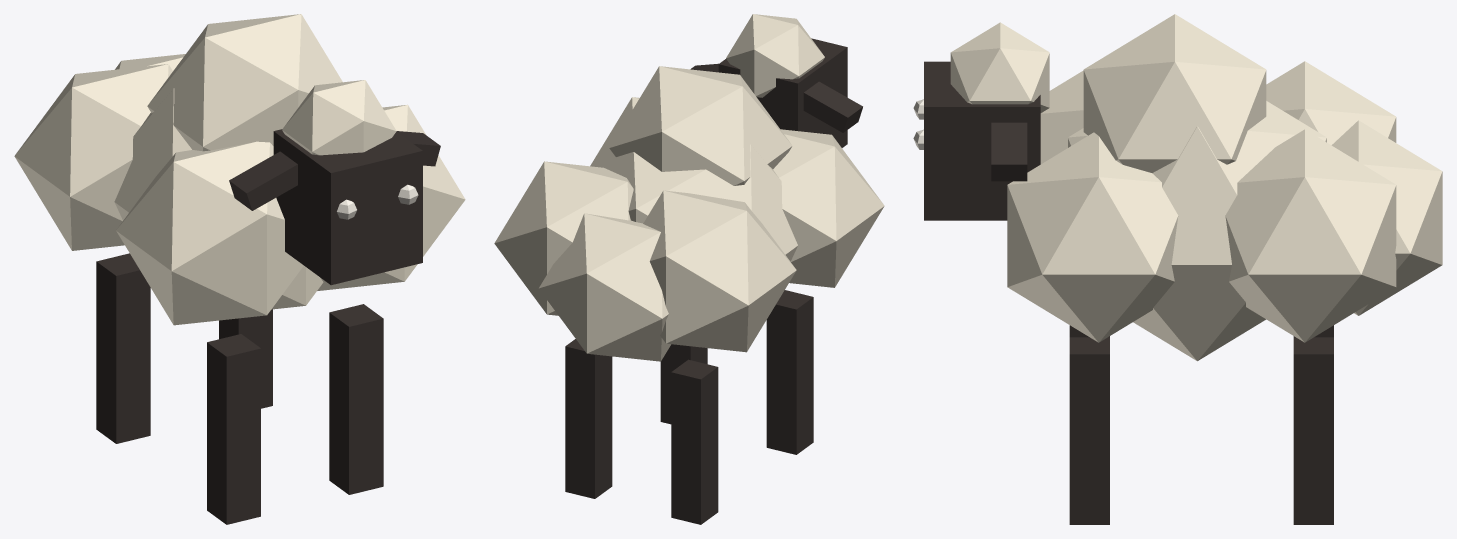
Rendered from SHEEP.glb.
3 renders of one model, left to right at view 1: azimuth 30°, elevation 25°; view 2: azimuth 150°, elevation 25°; view 3: azimuth 270°, elevation 25°, orthographic. The views are drawn at different scales.
Visible parts, largest first — view 1: body, head, leg_fr, leg_fl, leg_bl, leg_br; view 2: body, head, leg_bl, leg_fl, leg_br, leg_fr; view 3: body, head, leg_fr, leg_br.
Part boxes in pixels (left/top/right/bottom): body: left=14, top=14, right=465, bottom=325; head: left=229, top=80, right=440, bottom=285; leg_fr: left=329, top=304, right=383, bottom=494; leg_fl: left=207, top=334, right=260, bottom=524; leg_bl: left=96, top=253, right=150, bottom=443; leg_br: left=219, top=309, right=272, bottom=408; body: left=494, top=66, right=884, bottom=361; head: left=690, top=14, right=862, bottom=147; leg_bl: left=671, top=359, right=718, bottom=524; leg_fl: left=766, top=290, right=813, bottom=454; leg_br: left=565, top=339, right=612, bottom=498; leg_fr: left=660, top=344, right=707, bottom=424; body: left=1007, top=14, right=1442, bottom=361; head: left=913, top=22, right=1049, bottom=220; leg_fr: left=1069, top=337, right=1109, bottom=524; leg_br: left=1293, top=337, right=1333, bottom=524.
Bounding box in the file's own units: 0.7683 × 1.11 × 1.18.
